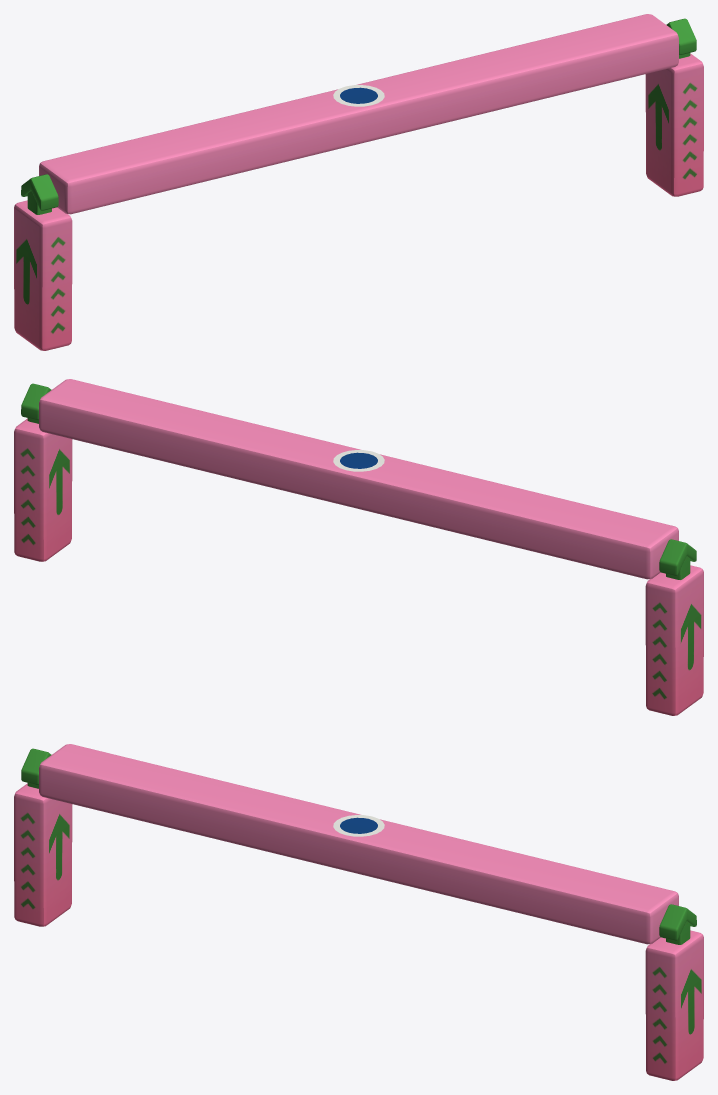
3 renders of one model, top to bottom at view 1: azimuth 30°, elevation 25°; view 2: azimuth 150°, elevation 25°; view 3: azimuth 330°, elevation 25°, orthographic.
Parts seen in each view (by area): view 1: shape3_7, top_cycle; view 2: shape3_7, top_cycle; view 3: shape3_7, top_cycle.
Part boxes in pixels (x1,y1,x2,y2): shape3_7: (14, 14, 703, 350); top_cycle: (333, 85, 384, 106); shape3_7: (14, 379, 703, 715); top_cycle: (333, 450, 384, 471); shape3_7: (14, 744, 703, 1080); top_cycle: (333, 815, 384, 836).
Size of the model in its own units: 62.98 by 15.08 by 5.
